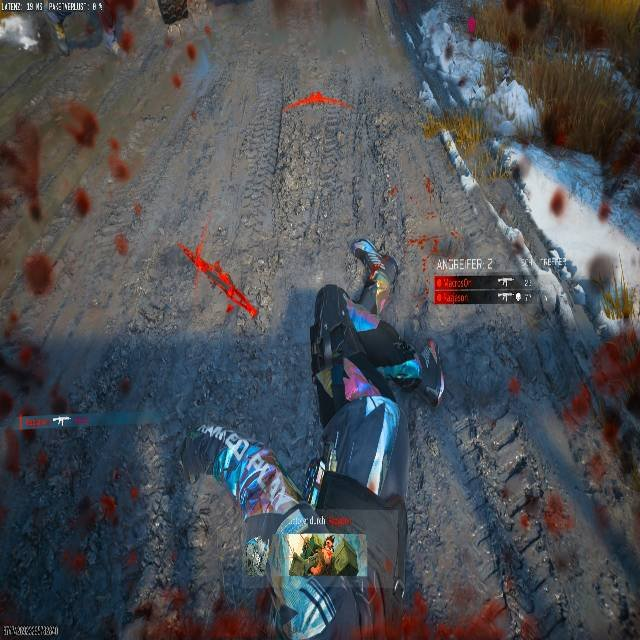head: (350, 238, 375, 262)
